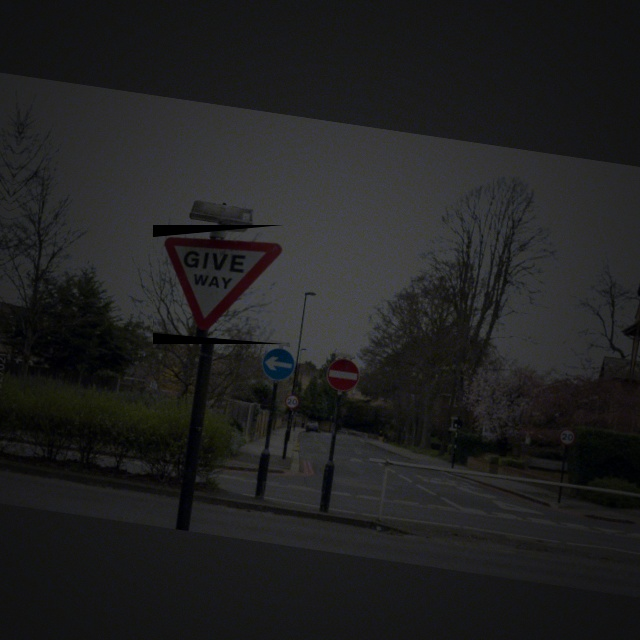Give_Way: (153, 225, 284, 344)
